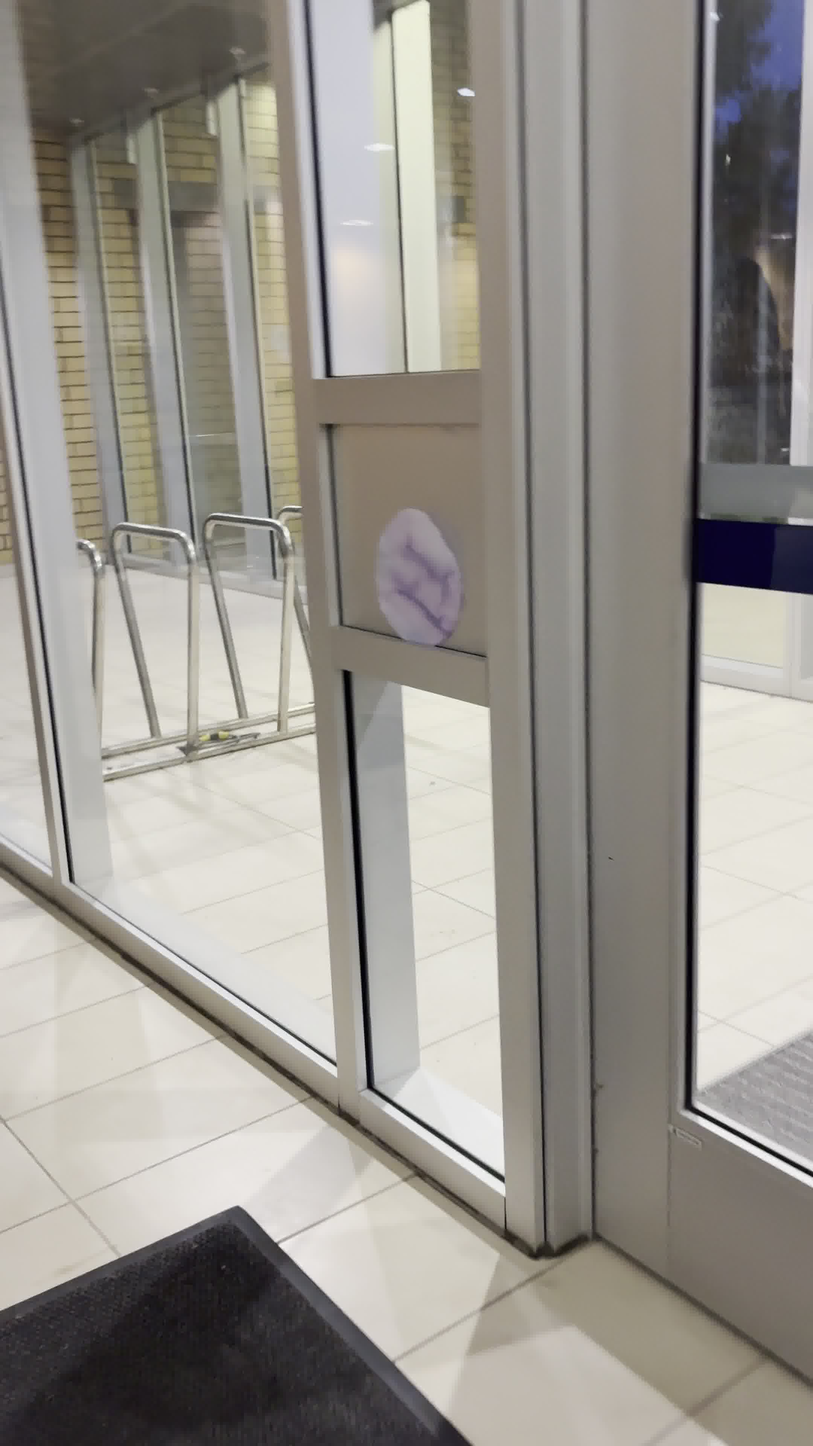Target: (364, 511, 470, 645)
